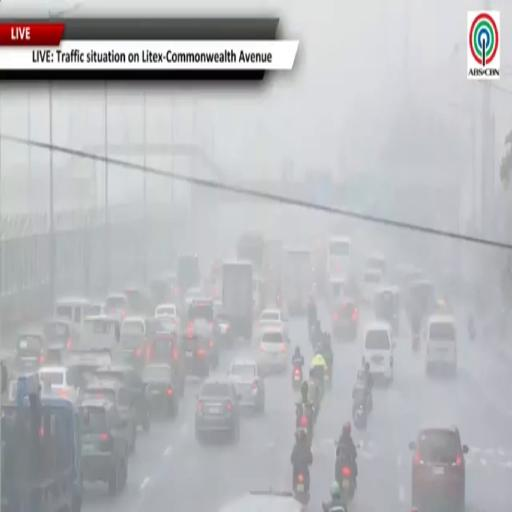car: (409, 427, 468, 511), (80, 398, 128, 495), (83, 380, 136, 452), (96, 365, 151, 431), (195, 378, 239, 442), (147, 332, 185, 396), (188, 298, 220, 367), (228, 359, 264, 413), (143, 364, 178, 418), (363, 322, 395, 381), (426, 315, 457, 374), (220, 490, 305, 511), (120, 316, 152, 371), (179, 323, 210, 377), (38, 366, 84, 399), (257, 328, 289, 374), (81, 315, 120, 350), (44, 317, 79, 353), (374, 285, 399, 335), (405, 279, 436, 319), (15, 332, 45, 372), (56, 297, 90, 331), (66, 348, 112, 373), (333, 297, 358, 340), (125, 285, 155, 316), (149, 272, 178, 303), (259, 308, 288, 337), (188, 297, 214, 327), (361, 268, 382, 303), (155, 303, 179, 331), (105, 293, 128, 322), (215, 312, 233, 348), (328, 277, 348, 303), (183, 287, 203, 311), (366, 253, 386, 274), (85, 302, 105, 317)
motorcycle: (339, 466, 354, 503), (296, 411, 312, 445), (294, 473, 309, 505), (353, 404, 367, 429), (292, 365, 302, 390), (322, 503, 347, 511), (309, 324, 317, 346), (468, 319, 476, 341), (325, 366, 332, 391), (412, 333, 420, 351)
truck: (2, 374, 82, 511), (222, 262, 253, 341), (283, 248, 313, 314), (236, 232, 265, 273)
